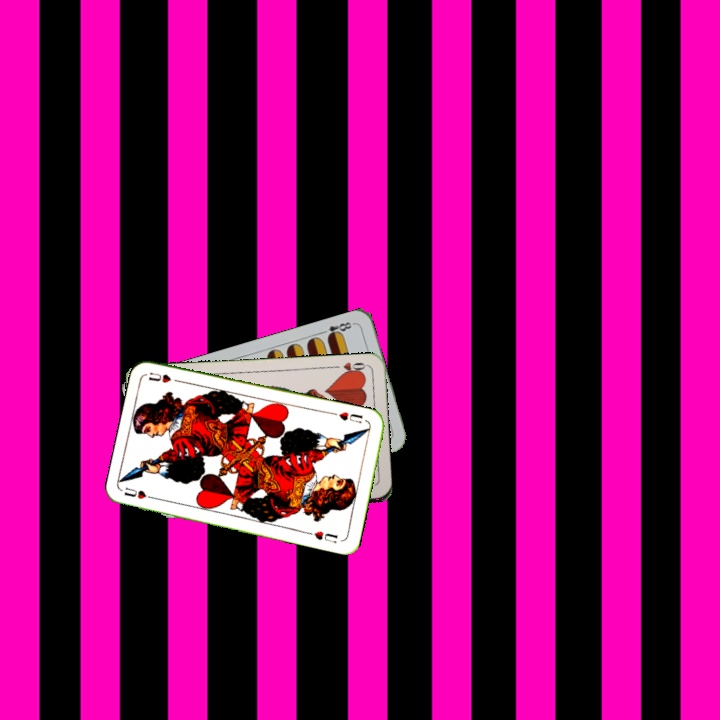E8: (317, 318, 357, 342)
HO: (329, 358, 369, 377)
HU: (120, 483, 160, 502), (335, 408, 365, 426)
